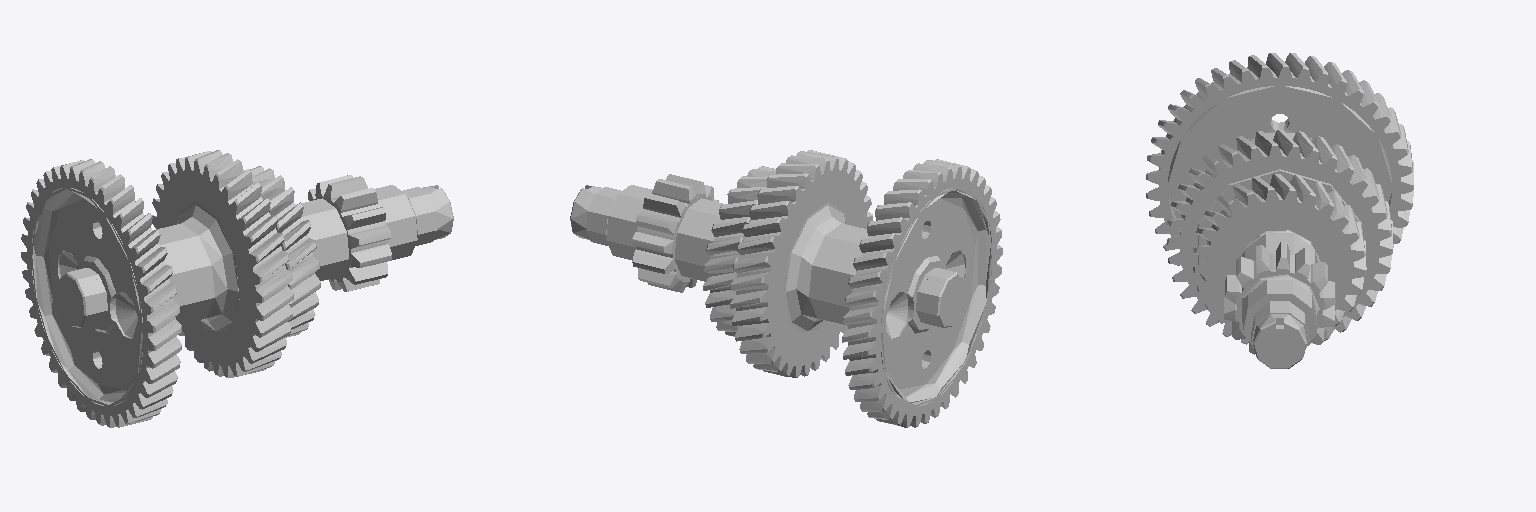
The model's file is 69. Блок шестерен промежуточного вала.obj.
3 views of the same model, side by side, from view 1: azimuth 30°, elevation 25°; view 2: azimuth 150°, elevation 25°; view 3: azimuth 270°, elevation 25° (orthographic).
Parts seen in each view (by area): view 1: Твердое тело1, Solid1:1, Solid1, Solid1:3, Solid1:2; view 2: Твердое тело1, Solid1:1, Solid1, Solid1:3, Solid1:2; view 3: Твердое тело1, Solid1:1, Solid1:2, Solid1, Solid1:3.
Part boxes in pixels (bbox=[...]): Твердое тело1: bbox=[31, 185, 453, 406]; Solid1:1: bbox=[152, 150, 293, 377]; Solid1: bbox=[21, 159, 181, 427]; Solid1:3: bbox=[308, 175, 391, 291]; Solid1:2: bbox=[243, 166, 320, 337]; Твердое тело1: bbox=[570, 185, 992, 406]; Solid1:1: bbox=[730, 150, 872, 377]; Solid1: bbox=[842, 159, 1002, 427]; Solid1:3: bbox=[632, 174, 718, 292]; Solid1:2: bbox=[703, 166, 775, 336]; Твердое тело1: bbox=[1168, 85, 1392, 368]; Solid1:1: bbox=[1167, 130, 1392, 345]; Solid1:2: bbox=[1193, 174, 1366, 331]; Solid1: bbox=[1146, 53, 1413, 265]; Solid1:3: bbox=[1224, 242, 1335, 354].
Size of the model in its own units: 257 by 162 by 162.